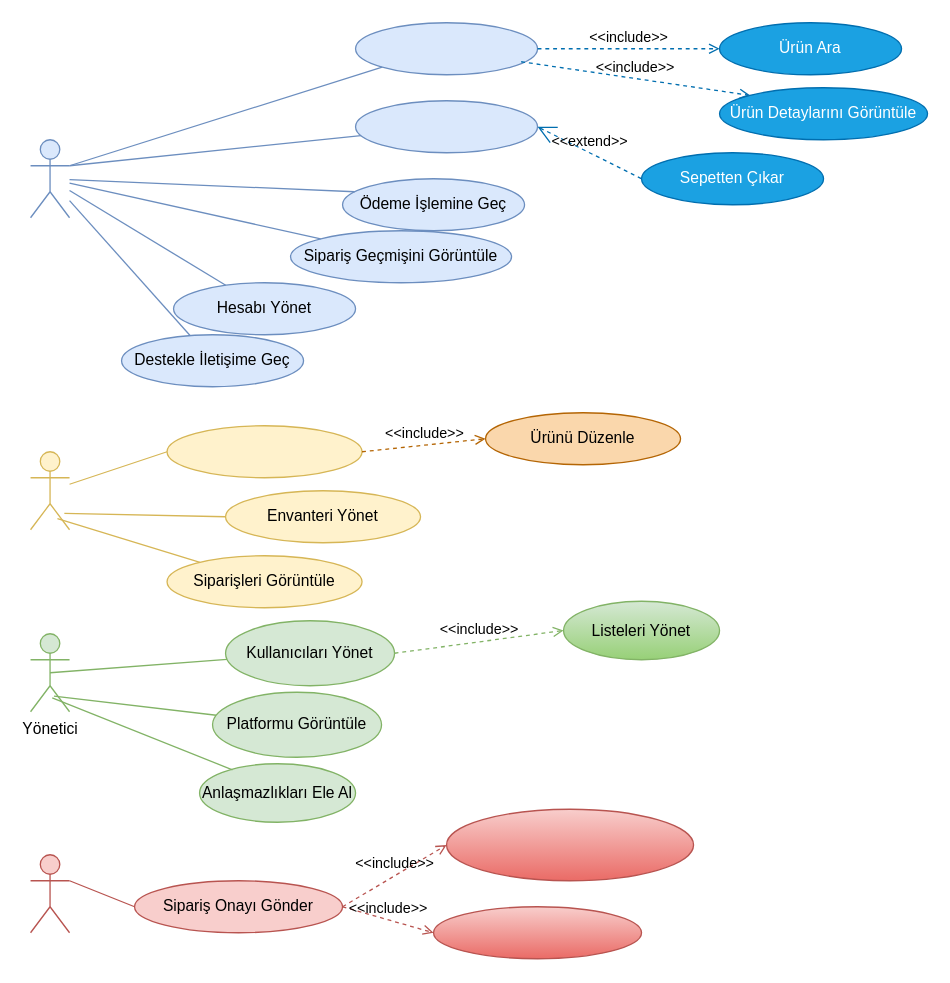
Image size: 950x983. Some labels were removed from this diagram. The shapes that lost their labels are listed below. From the top down, each one's centre as x and y in pixels, then its label:
At [446,48]: "Ürünlere Gözat".
At [446,126]: "Sepete Ekle".
At [49,178]: "Müşteri".
At [264,451]: "Ürün Ekle".
At [49,490]: "Satıcı".
At [569,844]: "Ödeme İşlemi".
At [49,893]: "Sistem".
At [537,932]: "Gönderi Onayı Gönder".
